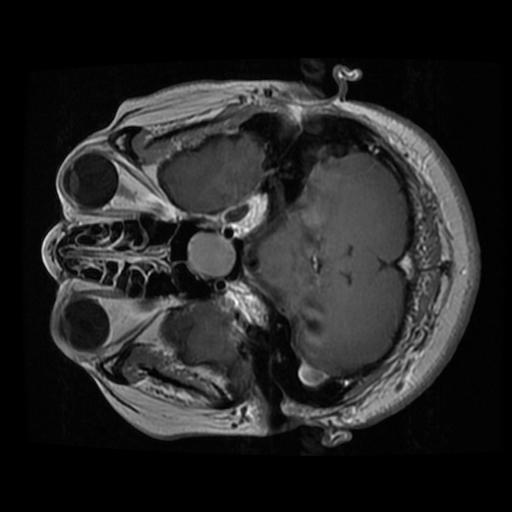pituitary tumour: (187, 231, 235, 277)
